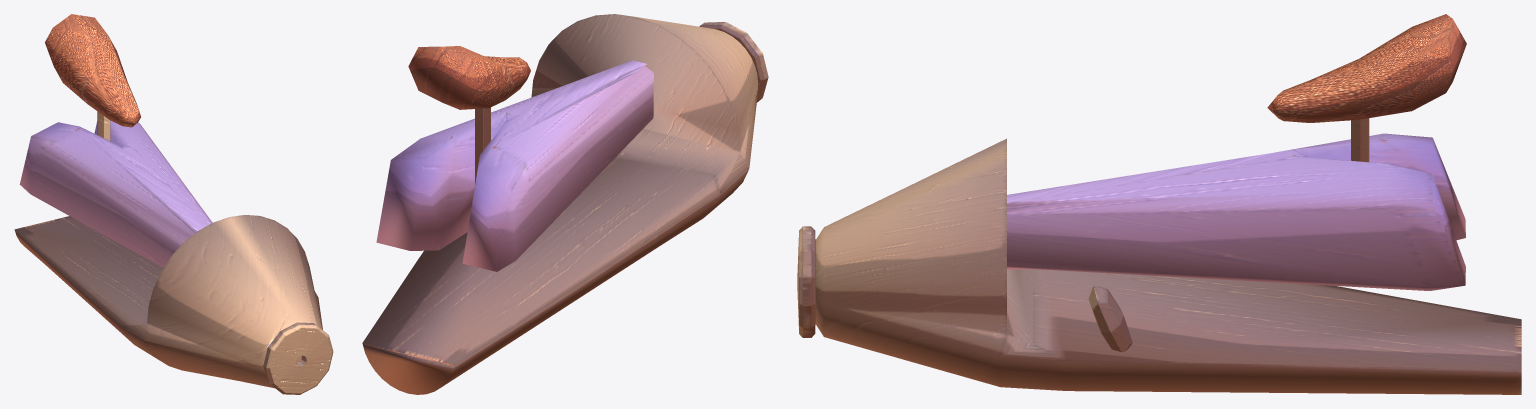
File: Cycle.glb
The picture shows the model from 3 angles, left to right: view 1: azimuth 30°, elevation 25°; view 2: azimuth 150°, elevation 25°; view 3: azimuth 270°, elevation 25°; orthographic projection. The views are drawn at different scales.
Visible parts, largest first — view 1: Ccycle——gltf; view 2: Ccycle——gltf; view 3: Ccycle——gltf.
Boxes of the visible parts, x1,y1,x2,y2 form: Ccycle——gltf: [14, 14, 333, 394]; Ccycle——gltf: [362, 14, 768, 394]; Ccycle——gltf: [797, 14, 1521, 394].
Size of what is drawn, in the model's own units: 1.19 by 1.67 by 2.97.
Materials: 1 (1 with a texture image).
